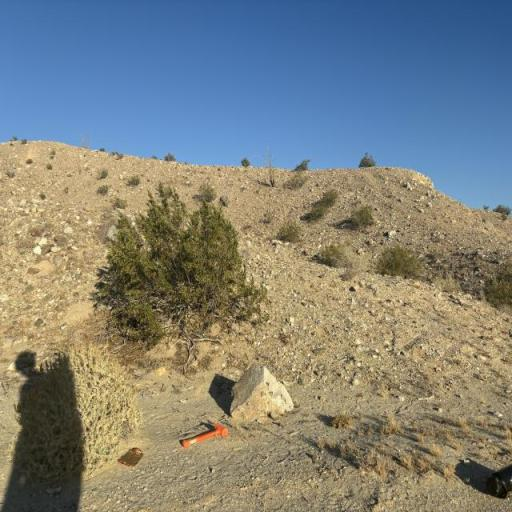mallet: (178, 416, 230, 452)
